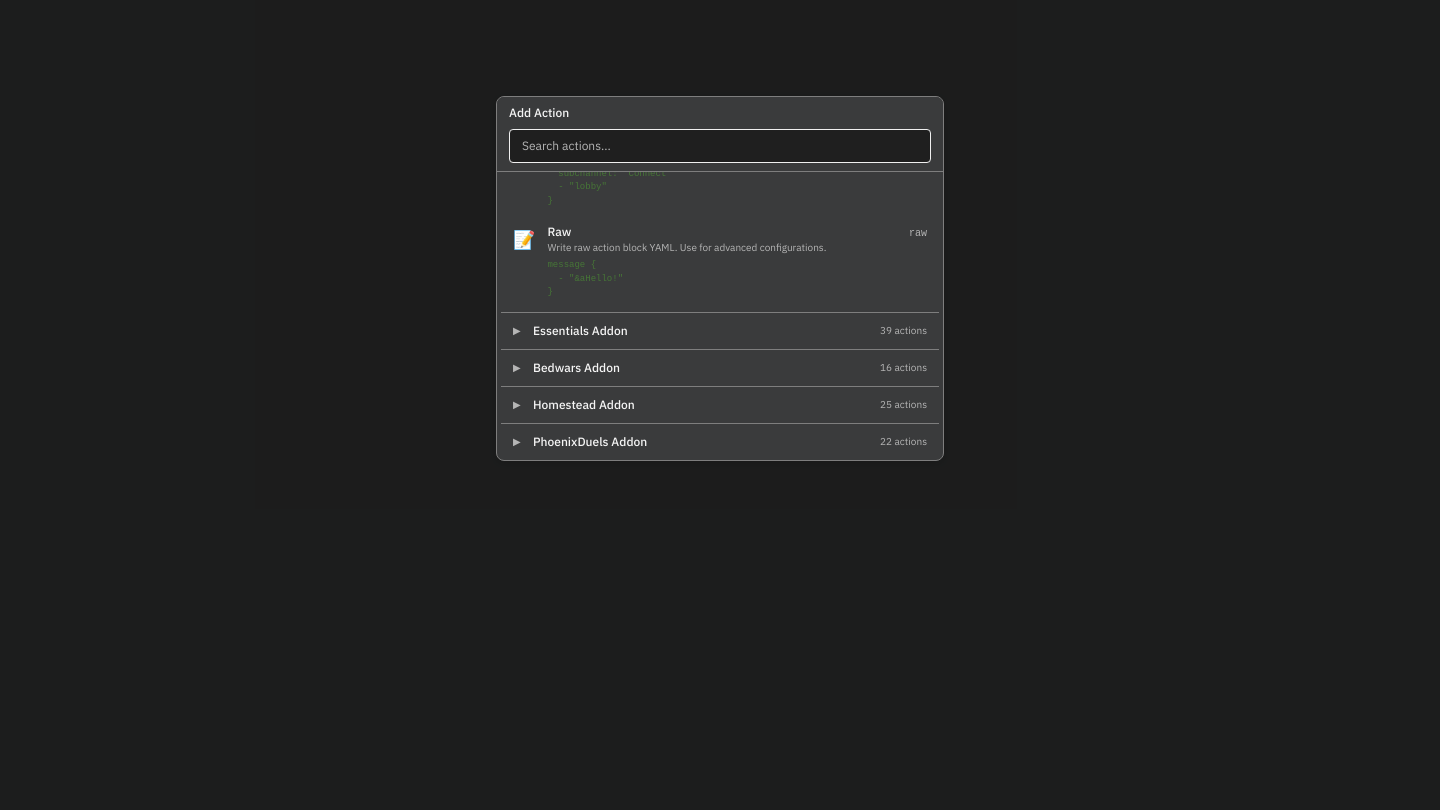
Scenario: ActionPicker addon sections › reveals that addon's actions when the section is expanded, and only that addon's
The image size is (1440, 810).
(page scrolled)
Click the button "▶ Bedwars Addon 16 actions".
click(576, 367)  # box [501,354,939,382]
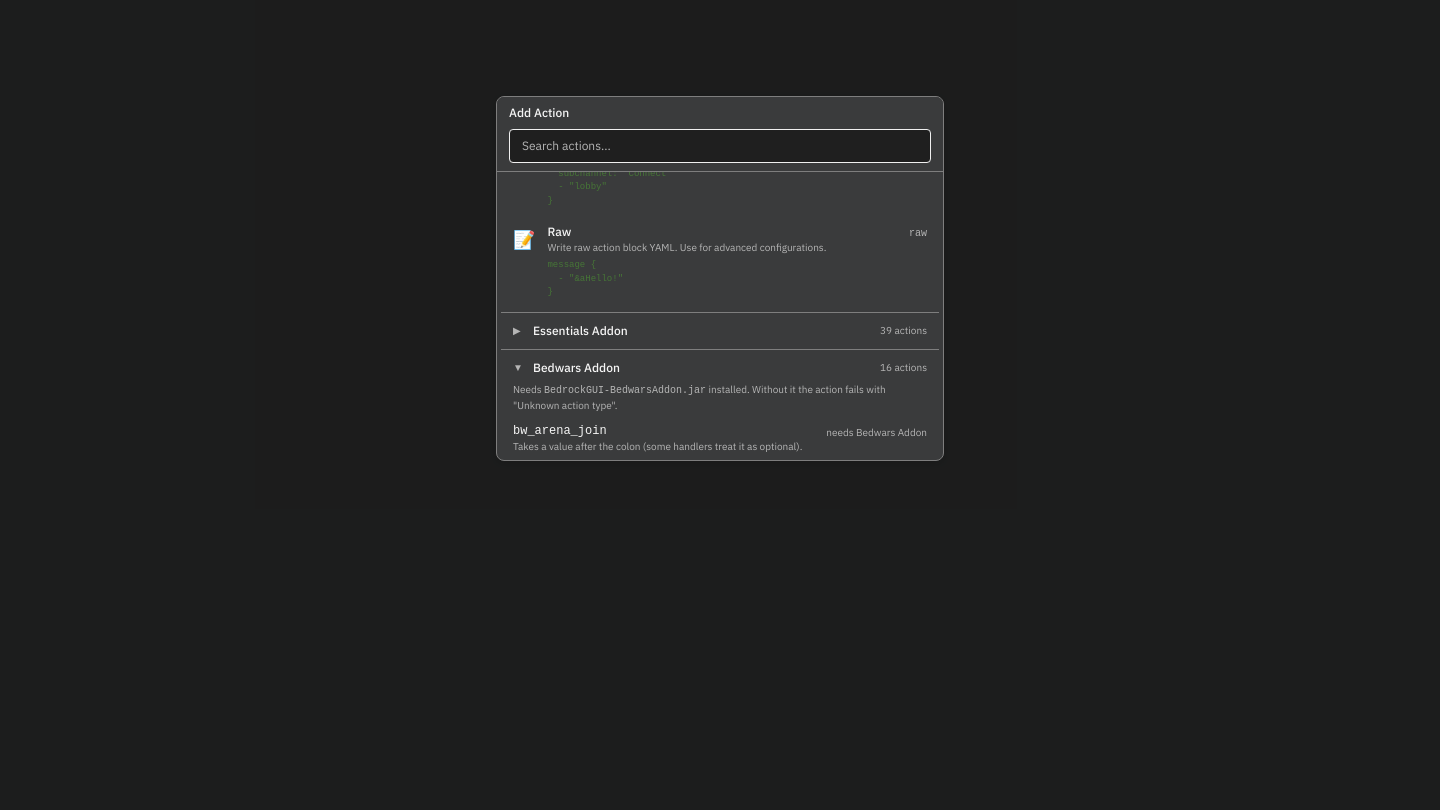
Expected: the text "BedrockGUI-BedwarsAddon.jar" is shown, [544,384,706,396]
